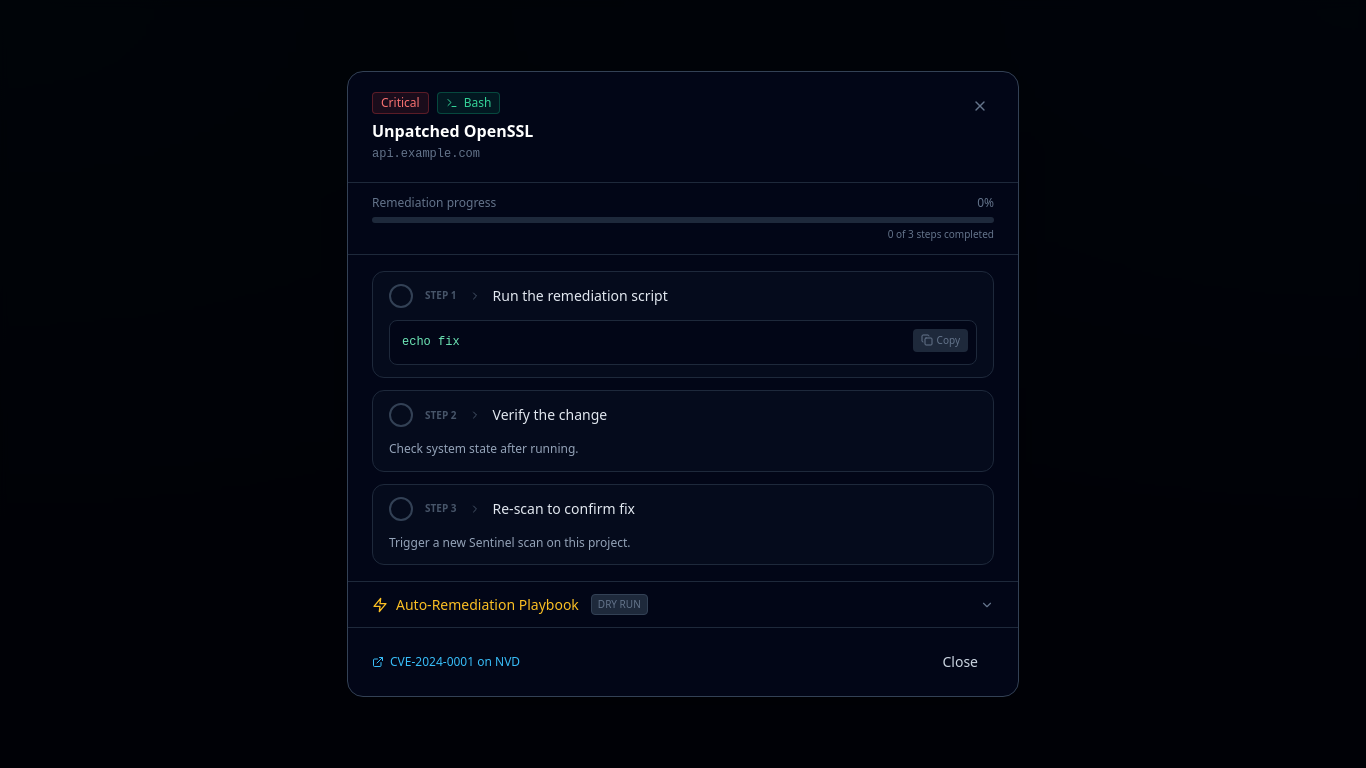
Scenario: RemediationModal — progress & steps › shows "Mark as Resolved" when all steps are completed
Click the button "STEP 1 Run the remediation script" at [580, 295], box left=373, top=272, right=993, bottom=320
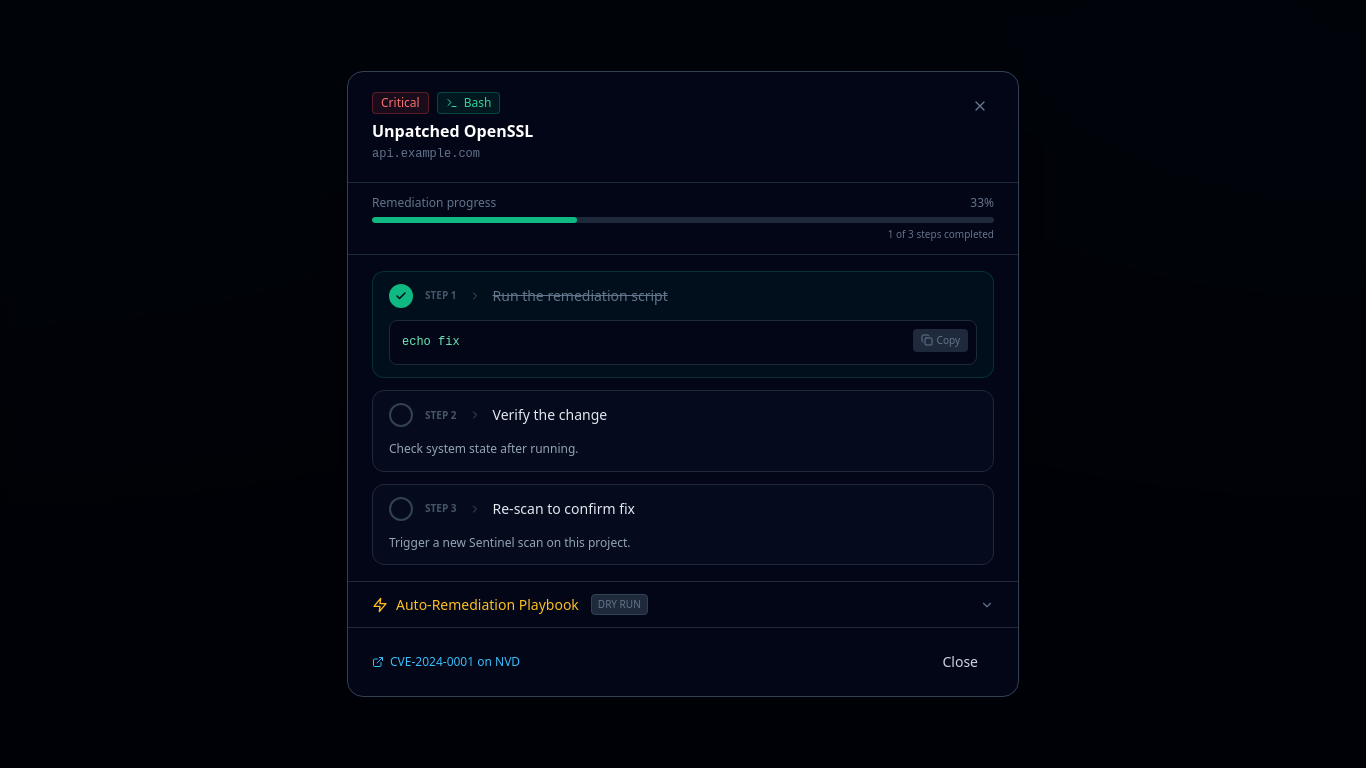
Click the button "STEP 2 Verify the change" at [550, 415], box left=373, top=391, right=993, bottom=439
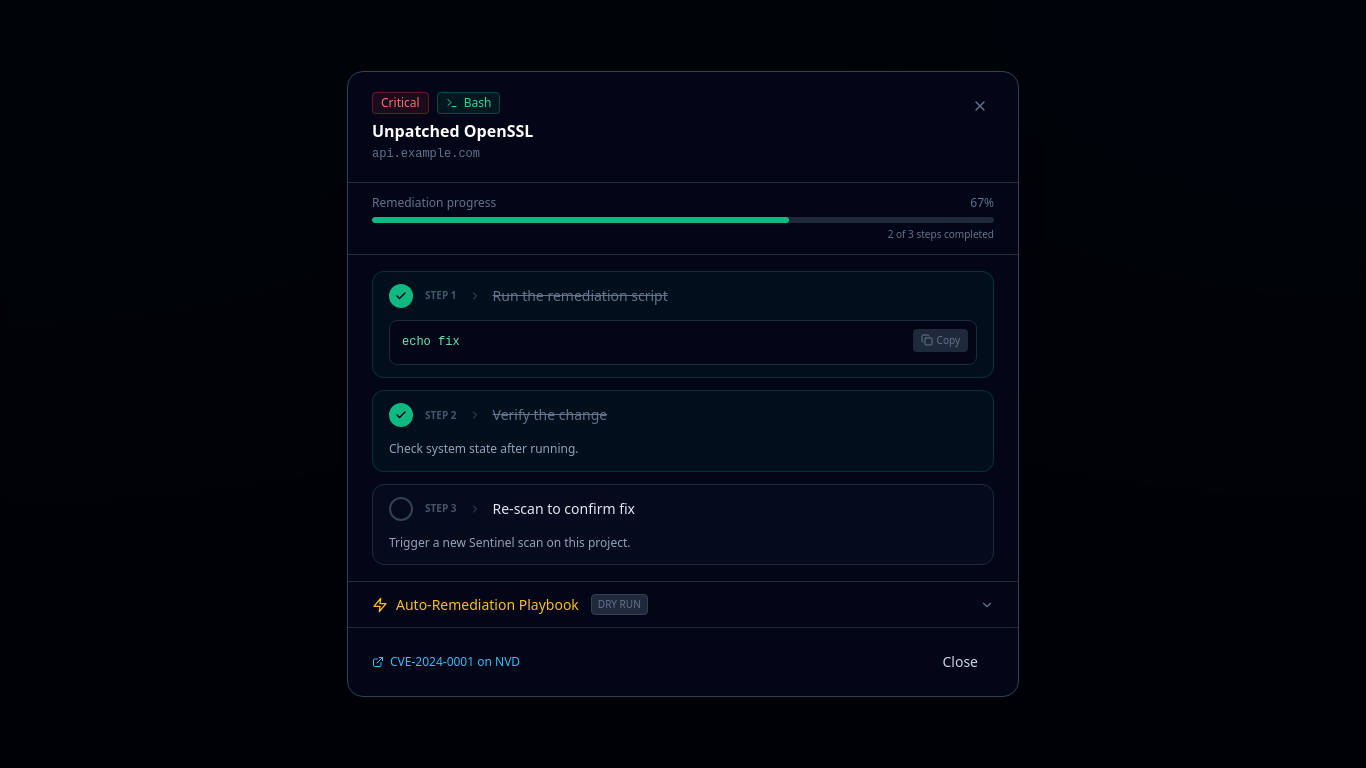
Click the button "STEP 3 Re-scan to confirm fix" at [564, 508], box left=373, top=485, right=993, bottom=533
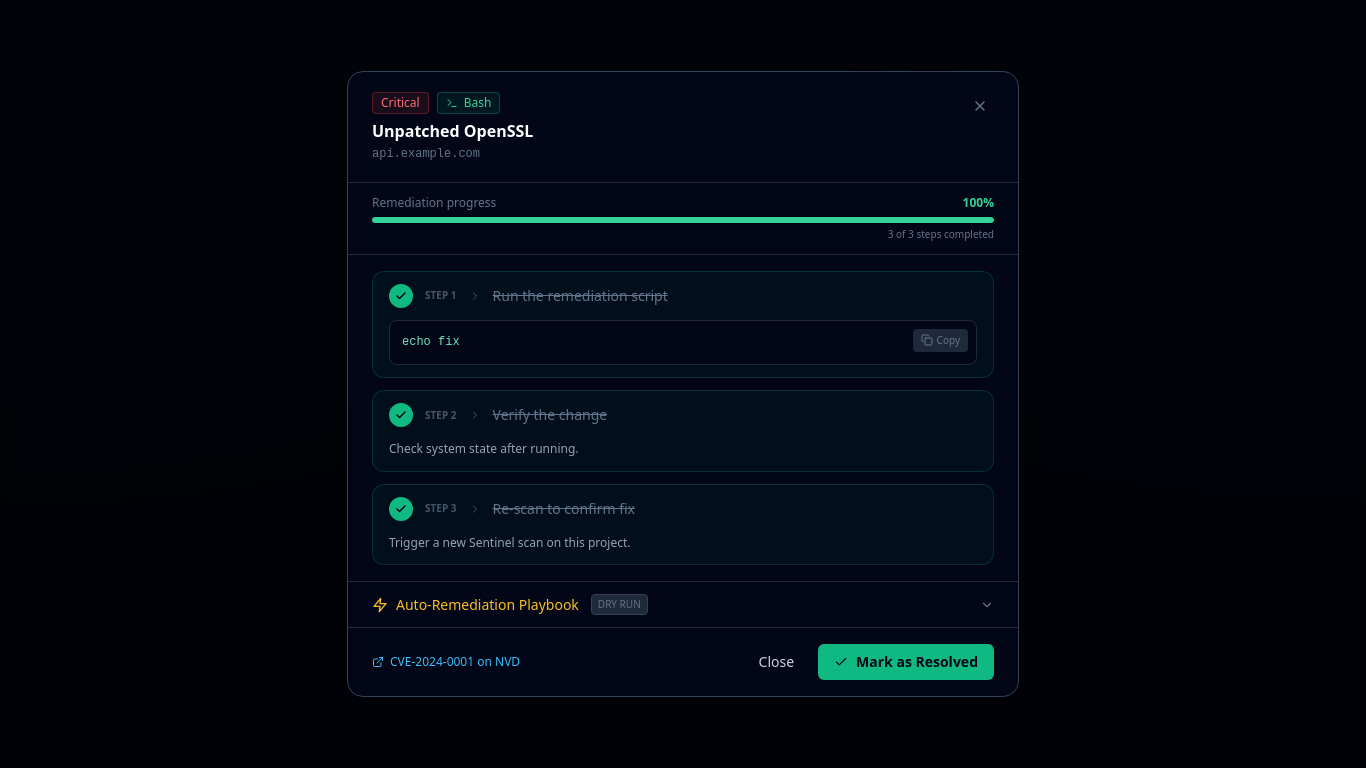
Expected: the button "Mark as Resolved" is shown, left=818, top=644, right=994, bottom=680
